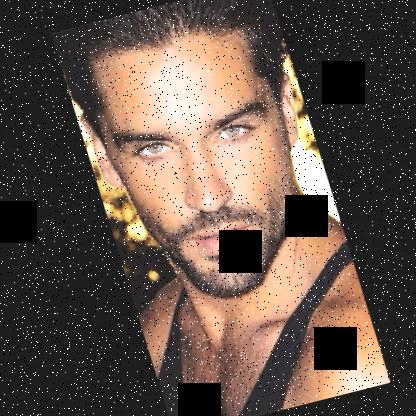Male: (56, 8, 348, 318)
